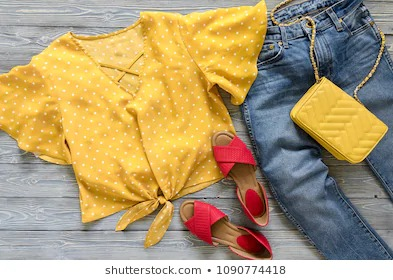S_short blouse: (3, 1, 267, 247)
